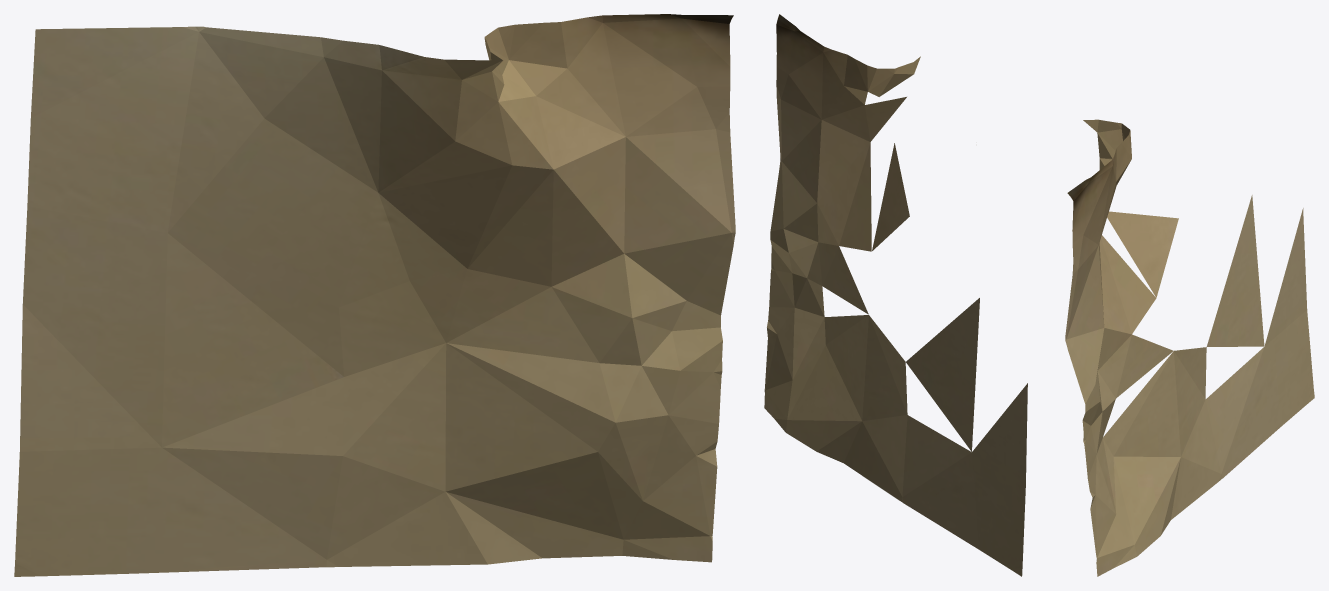
3 renders of one model, left to right at view 1: azimuth 30°, elevation 25°; view 2: azimuth 150°, elevation 25°; view 3: azimuth 270°, elevation 25°, orthographic. The views are drawn at different scales.
Size of the model in its own units: 0.8373 by 0.8374 by 0.4935.
Materials: 3 (3 with a texture image).
